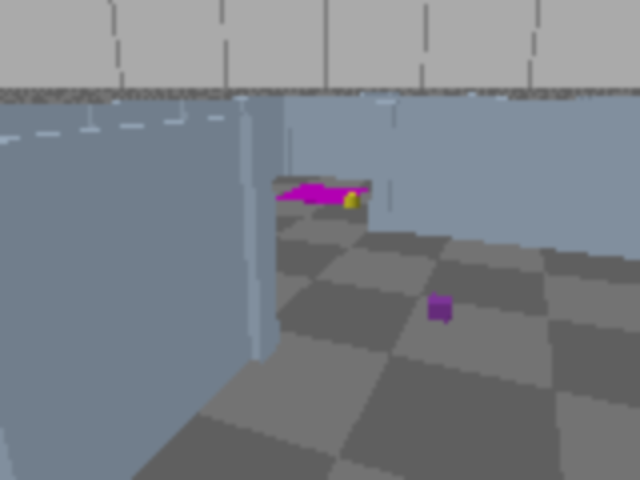goal_zone: (274, 185, 367, 206)
puck: (426, 293, 454, 323)
